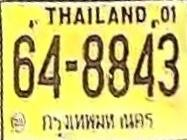3: (156, 32, 180, 97)
4: (38, 34, 62, 98), (134, 33, 156, 98)
6: (13, 34, 35, 98)
8: (82, 34, 104, 98), (108, 34, 130, 97)
BKK: (36, 106, 156, 138)
